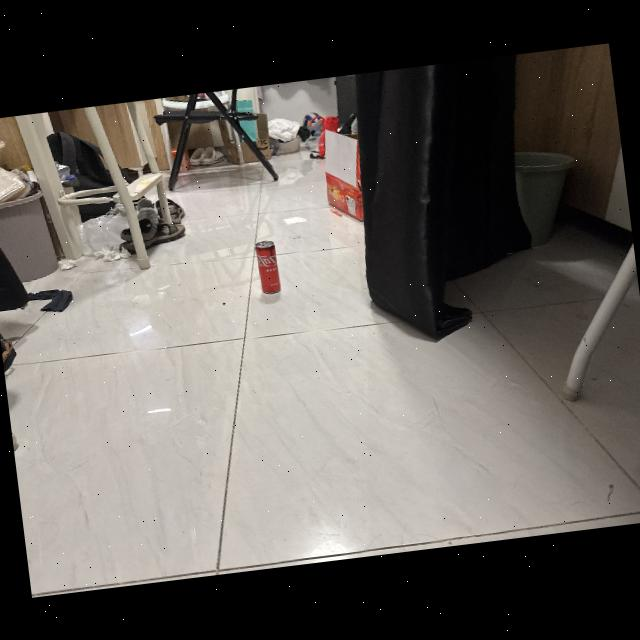Cola: (247, 232, 287, 298)
